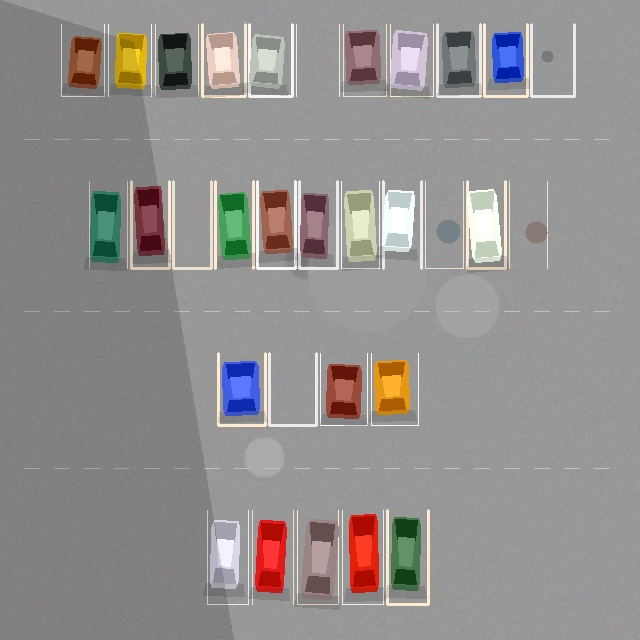space-empty: (269, 353, 316, 425), (173, 181, 211, 268), (425, 181, 463, 268), (509, 181, 547, 268), (296, 24, 339, 96), (531, 24, 574, 96)
space-occupied: (207, 510, 248, 604), (252, 510, 293, 604), (297, 510, 338, 604), (342, 510, 383, 604), (387, 510, 428, 604), (218, 353, 265, 425), (320, 353, 367, 425), (371, 353, 418, 425), (89, 181, 127, 268), (131, 181, 169, 268), (215, 181, 253, 268), (257, 181, 295, 268), (299, 181, 337, 268), (341, 181, 379, 268), (383, 181, 421, 268), (467, 181, 505, 268), (61, 24, 104, 96), (108, 24, 151, 96), (155, 24, 198, 96), (202, 24, 245, 96), (249, 24, 292, 96), (343, 24, 386, 96), (390, 24, 433, 96), (437, 24, 480, 96), (484, 24, 527, 96)
